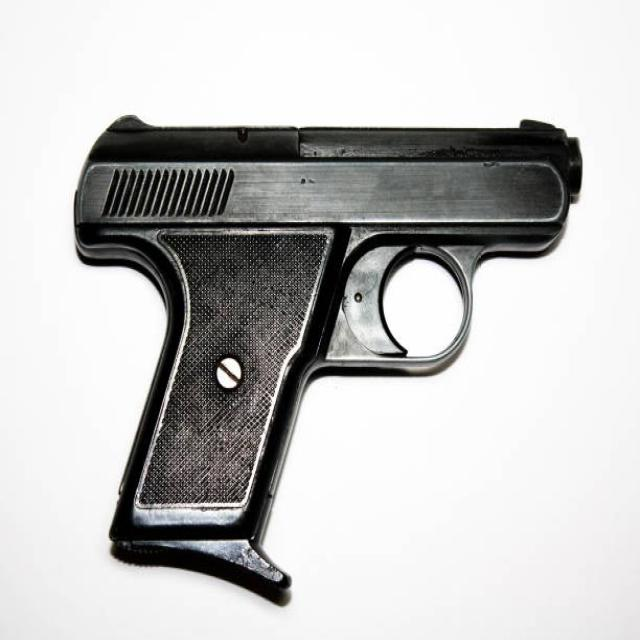pistol: (63, 112, 589, 610)
